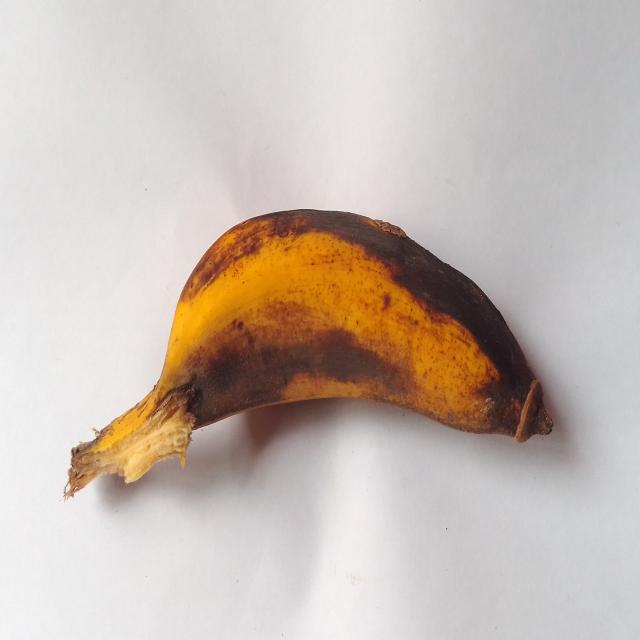banana: (66, 211, 552, 496)
